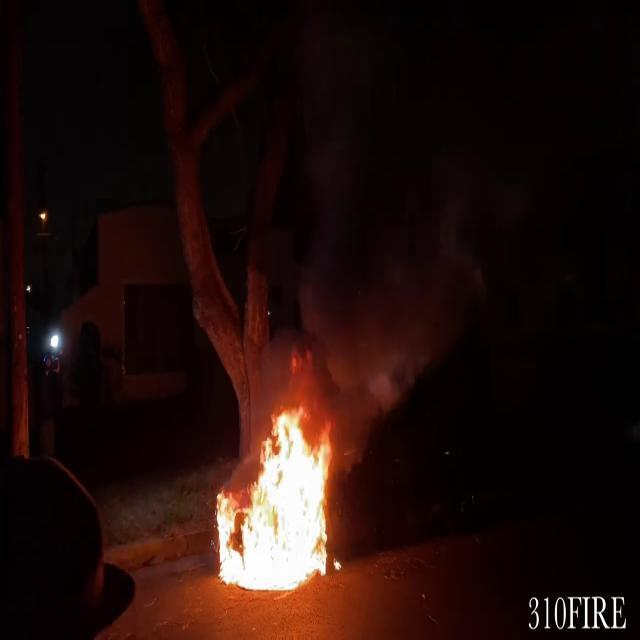Fire: (211, 400, 341, 596)
